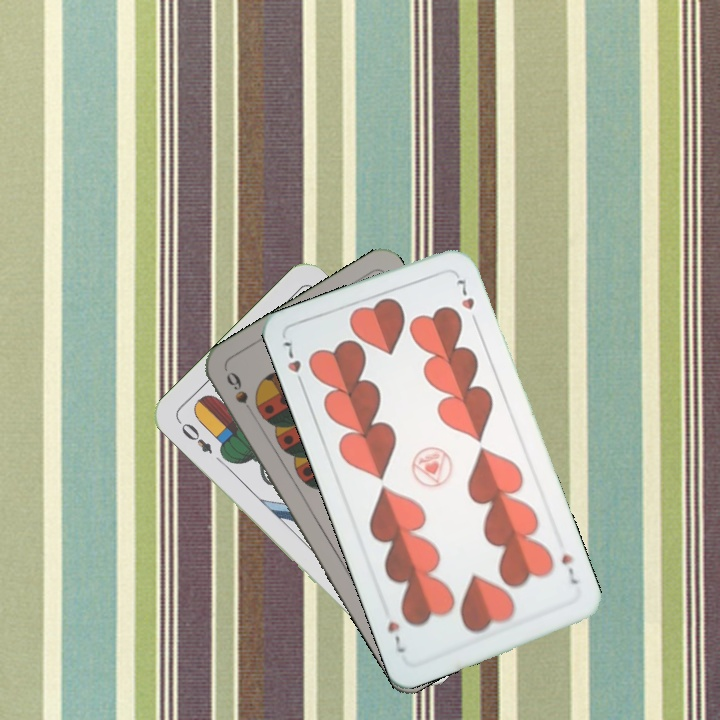EO: (174, 416, 216, 457)
H7: (278, 335, 308, 392), (557, 550, 581, 587)
S9: (222, 367, 257, 421)
